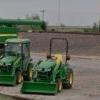Tractor: (8, 27, 75, 97)
